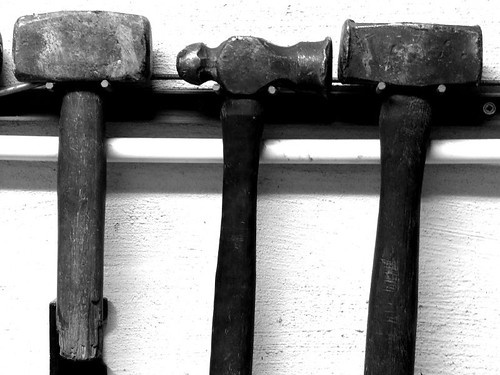hammer: (177, 39, 330, 374), (341, 16, 482, 375), (12, 10, 150, 361)
